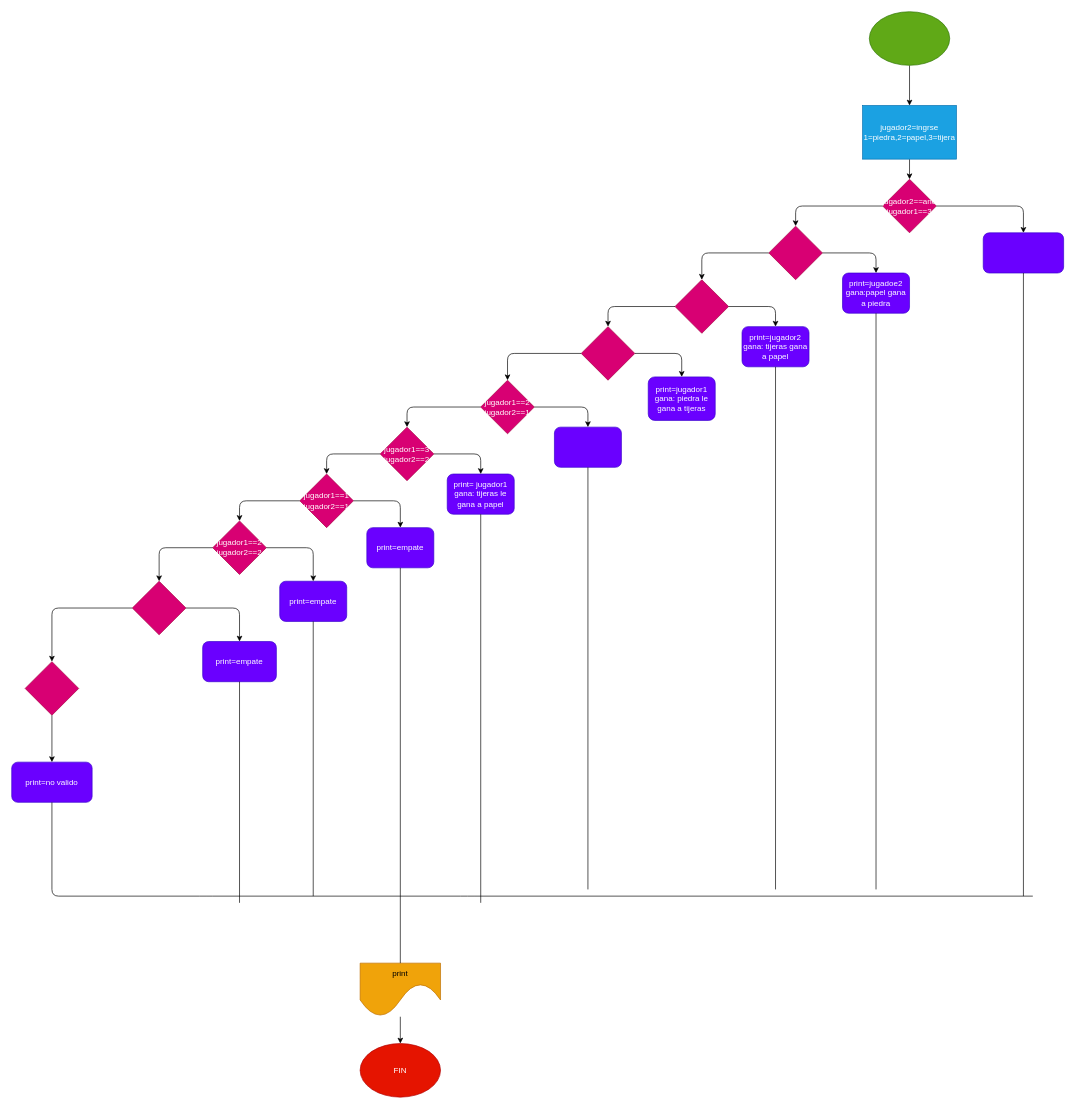
This 1075x1109 diagram has some shape labels left out. Each missing label, with the centre of its shape:
INICIO: point (909, 38)
jugador1==1 jugador2==3: point (608, 353)
jugador1==3 jugador2==3: point (159, 608)
jugador2==2 and jugador1==1: point (795, 252)
jugador2==3 jugador1==2: point (701, 306)
jugador>3: point (51, 688)
print=jugador1 gana: papel le gana a piedra: point (587, 446)
print=jugador2gana: piedra gana tijera: point (1023, 252)
